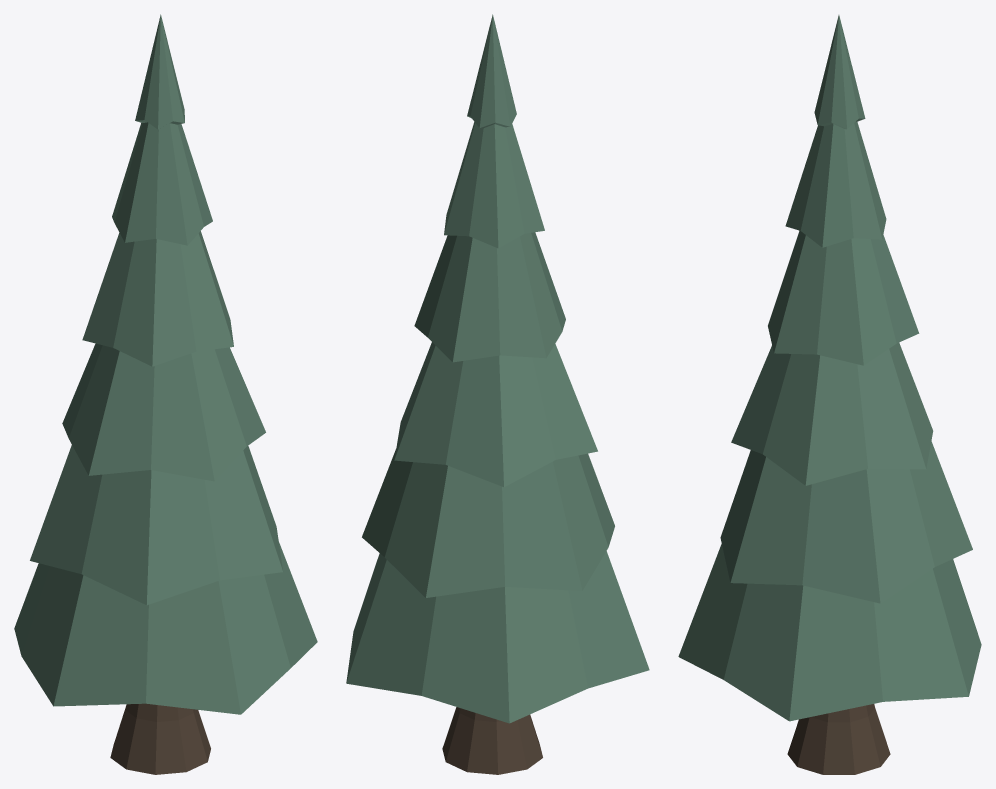
File: Tree.fbx
3 views of the same model, side by side, from view 1: azimuth 30°, elevation 25°; view 2: azimuth 150°, elevation 25°; view 3: azimuth 270°, elevation 25° (orthographic).
Parts seen in each view (by area): view 1: Tree; view 2: Tree; view 3: Tree.
Part boxes in pixels (box(x1,y1,x2,y2)): Tree: box(14, 14, 317, 774); Tree: box(346, 14, 649, 774); Tree: box(678, 15, 981, 774).
Bounding box in the file's own units: 4.3 × 11.5 × 4.27.
